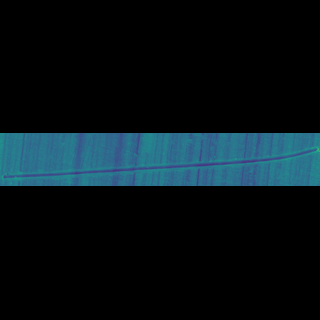Loch: (4, 157, 320, 163)
